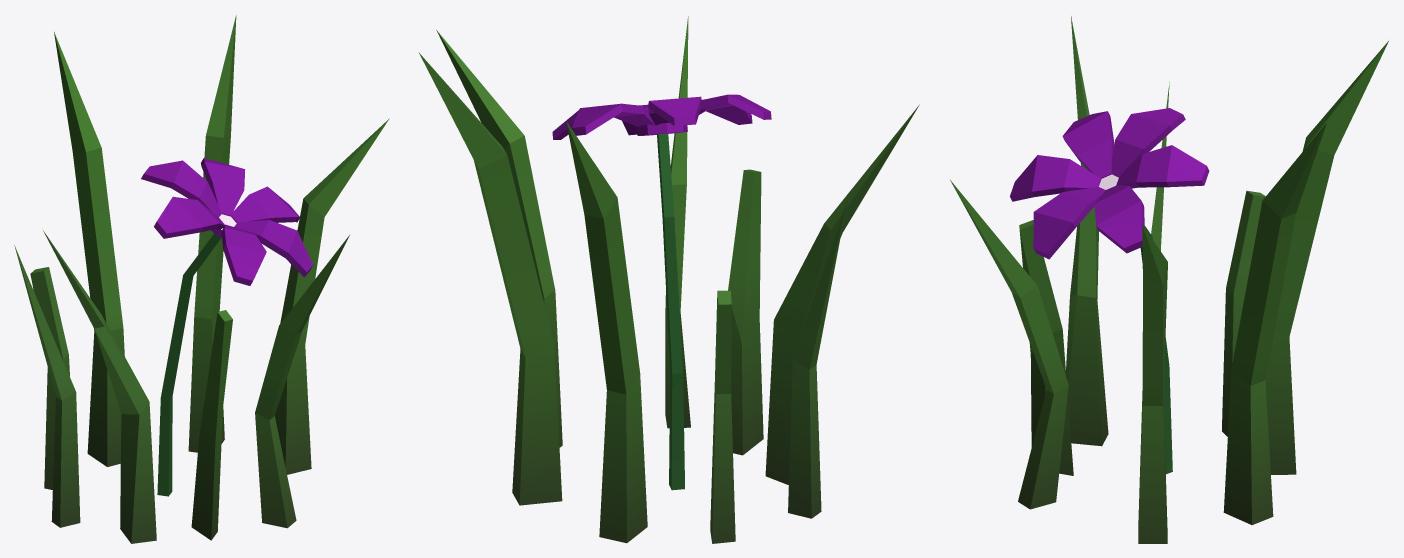
The model's file is flower_grass_purple.fbx.
The picture shows the model from 3 angles, left to right: view 1: azimuth 30°, elevation 25°; view 2: azimuth 150°, elevation 25°; view 3: azimuth 270°, elevation 25°; orthographic projection. The views are drawn at different scales.
Parts seen in each view (by area): view 1: flower_grass_purple; view 2: flower_grass_purple; view 3: flower_grass_purple.
Boxes of the visible parts, x1=… form: flower_grass_purple: x1=14, y1=15, x2=389, y2=543; flower_grass_purple: x1=419, y1=16, x2=919, y2=543; flower_grass_purple: x1=950, y1=16, x2=1388, y2=543.
Bounding box in the file's own units: 0.3779 × 0.3697 × 0.3451.
